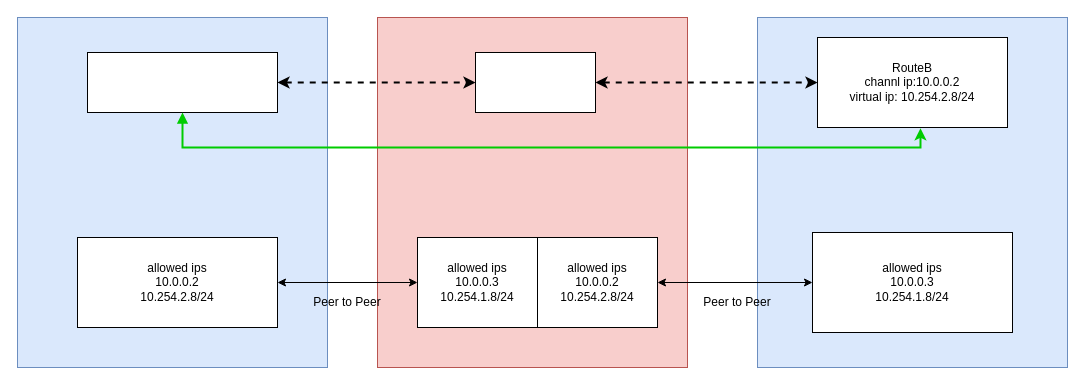
The diagram is 1085 pixels wide and 385 high, and some of its shapes have lost their labels. The centre of each missing label's shape, as x and y in pixels:
Cloud Gateway channl ip:10.0.0.1: (x=535, y=82)
Route A channl ip:10.0.0.3 virtual ip 10.254.1.8/24: (x=182, y=82)
